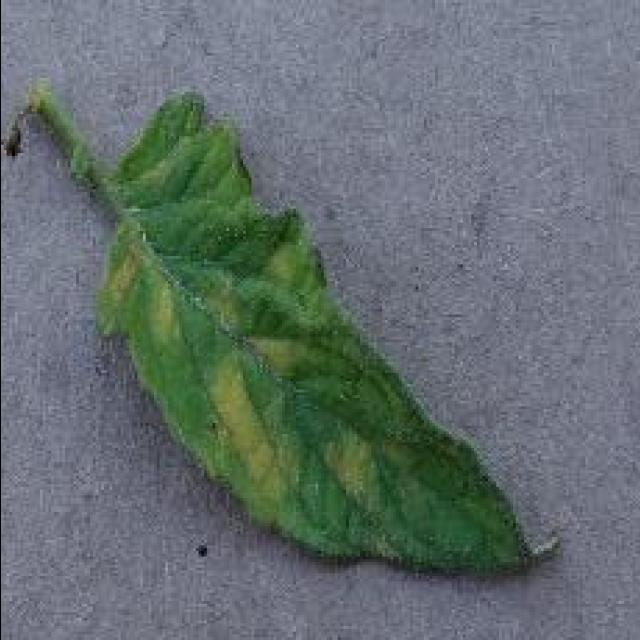leaf mold: (41, 94, 537, 576)
